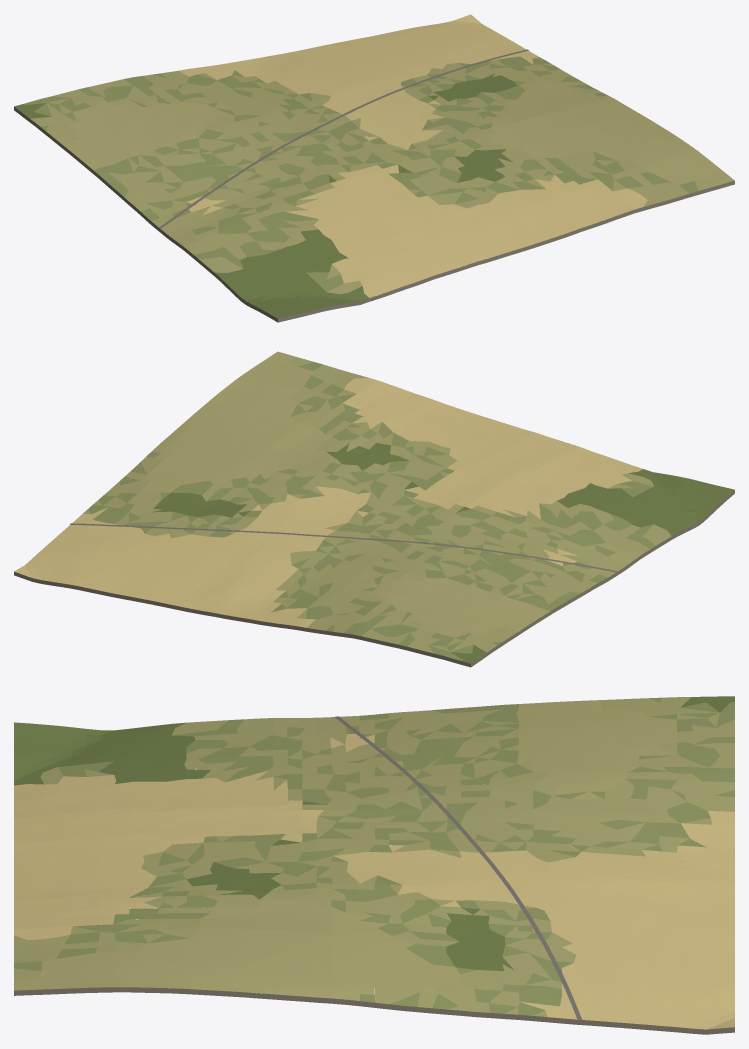
The model's file is parca_-2_-3-uzak.glb.
3 views of the same model, one above another, from view 1: azimuth 30°, elevation 25°; view 2: azimuth 150°, elevation 25°; view 3: azimuth 270°, elevation 25° (orthographic). The views are drawn at different scales.
Parts seen in each view (by area): view 1: parca_-2_-3_arazi_uzak, parca_-2_-3_yollar_uzak; view 2: parca_-2_-3_arazi_uzak, parca_-2_-3_yollar_uzak; view 3: parca_-2_-3_arazi_uzak, parca_-2_-3_yollar_uzak.
Boxes of the visible parts, x1,y1,x2,y2 form: parca_-2_-3_arazi_uzak: (14, 14, 734, 322); parca_-2_-3_yollar_uzak: (159, 49, 529, 228); parca_-2_-3_arazi_uzak: (14, 351, 734, 667); parca_-2_-3_yollar_uzak: (70, 523, 617, 572); parca_-2_-3_arazi_uzak: (14, 696, 734, 1034); parca_-2_-3_yollar_uzak: (334, 716, 582, 1020).
Size of the model in its own units: 1004 by 81.17 by 1000.
